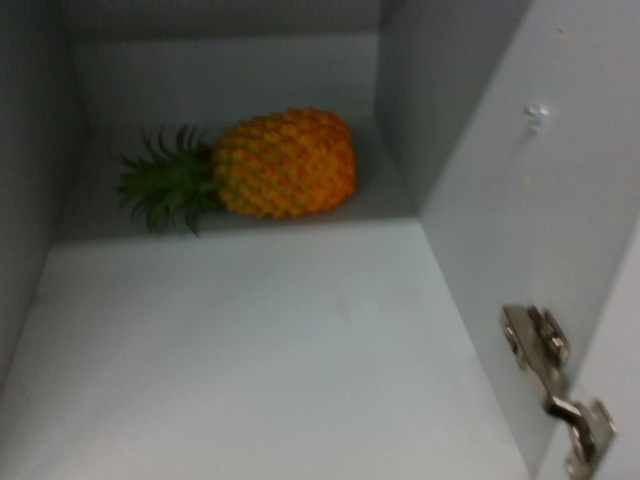pineapple: (114, 114, 361, 226)
